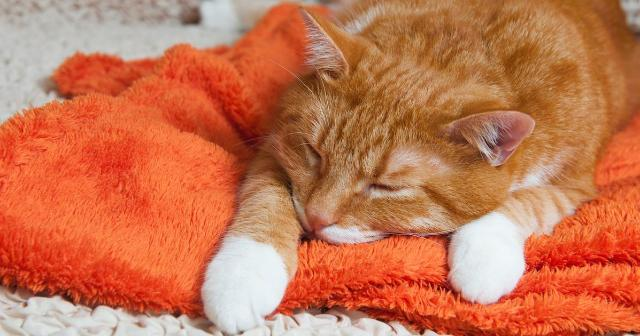cat: (200, 2, 636, 334)
